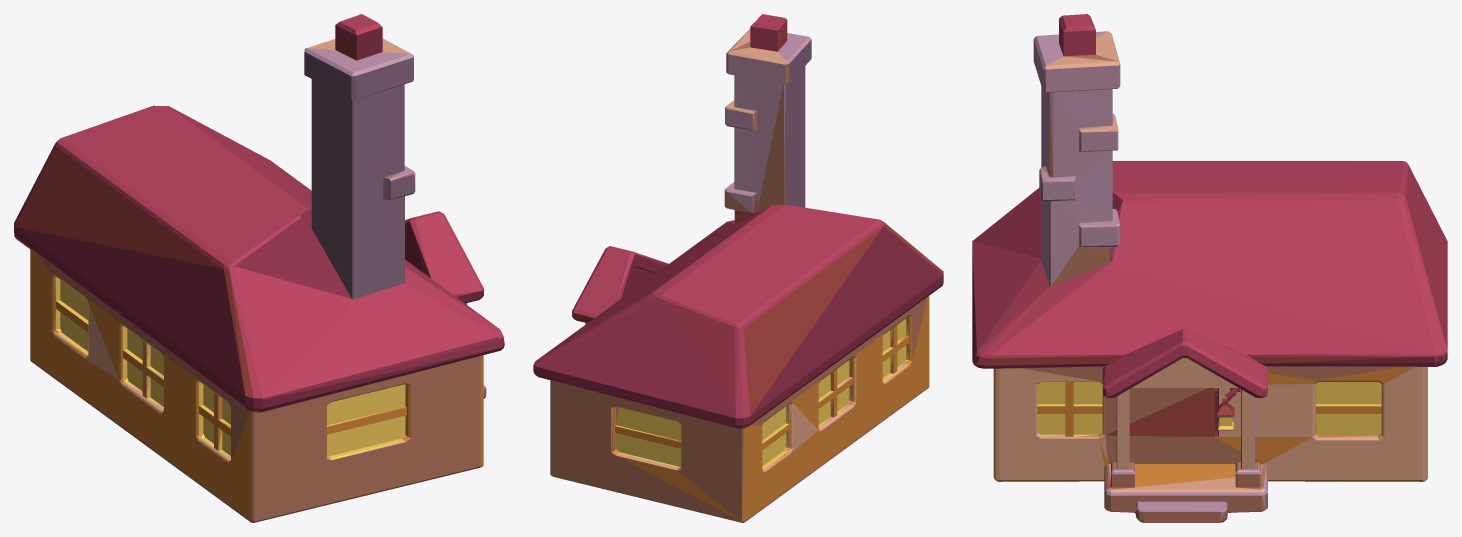
File: house4.glb
The picture shows the model from 3 angles, left to right: view 1: azimuth 30°, elevation 25°; view 2: azimuth 150°, elevation 25°; view 3: azimuth 270°, elevation 25°; orthographic projection. The views are drawn at different scales.
Visible parts, largest first — view 1: #B8405E, #8A2E48, #B9765E, #8E6A86, #E08A3A, #A8443F, #FFD45C, #E9A989, #C495B0; view 2: #B8405E, #B9765E, #E08A3A, #8A2E48, #A8443F, #C495B0, #FFD45C, #8E6A86, #E9A989; view 3: #B8405E, #E9A989, #C495B0, #B9765E, #E08A3A, #FFD45C, #A8443F, #8A2E48, #8E6A86.
Part boxes in pixels (box(x1,y1,x2,y2)): #B8405E: box(14, 14, 503, 399); #8A2E48: box(14, 27, 504, 412); #B9765E: box(30, 66, 486, 522); #8E6A86: box(304, 52, 485, 398); #E08A3A: box(30, 249, 483, 520); #A8443F: box(14, 36, 484, 398); #FFD45C: box(56, 277, 406, 460); #E9A989: box(53, 38, 410, 460); #C495B0: box(304, 48, 485, 387); #B8405E: box(533, 14, 884, 418); #B9765E: box(553, 42, 929, 522); #E08A3A: box(550, 296, 929, 521); #8A2E48: box(533, 212, 943, 428); #A8443F: box(533, 20, 943, 415); #C495B0: box(585, 33, 811, 324); #FFD45C: box(615, 318, 909, 469); #8E6A86: box(726, 40, 811, 221); #E9A989: box(550, 29, 908, 475); #B8405E: box(972, 14, 1447, 396); #E9A989: box(995, 31, 1427, 509); #C495B0: box(1034, 31, 1267, 518); #B9765E: box(994, 54, 1398, 522); #E08A3A: box(993, 366, 1427, 487); #FFD45C: box(1037, 382, 1381, 436); #A8443F: box(977, 88, 1447, 521); #8A2E48: box(972, 19, 1447, 434); #8E6A86: box(1033, 39, 1236, 520).
Size of the model in its own units: 0.7573 by 0.9902 by 1.
